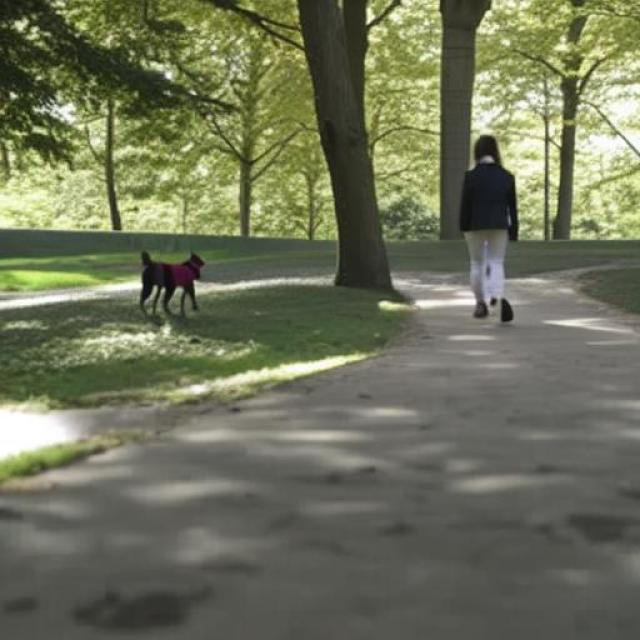Unleashed_Dog: (138, 230, 512, 323)
